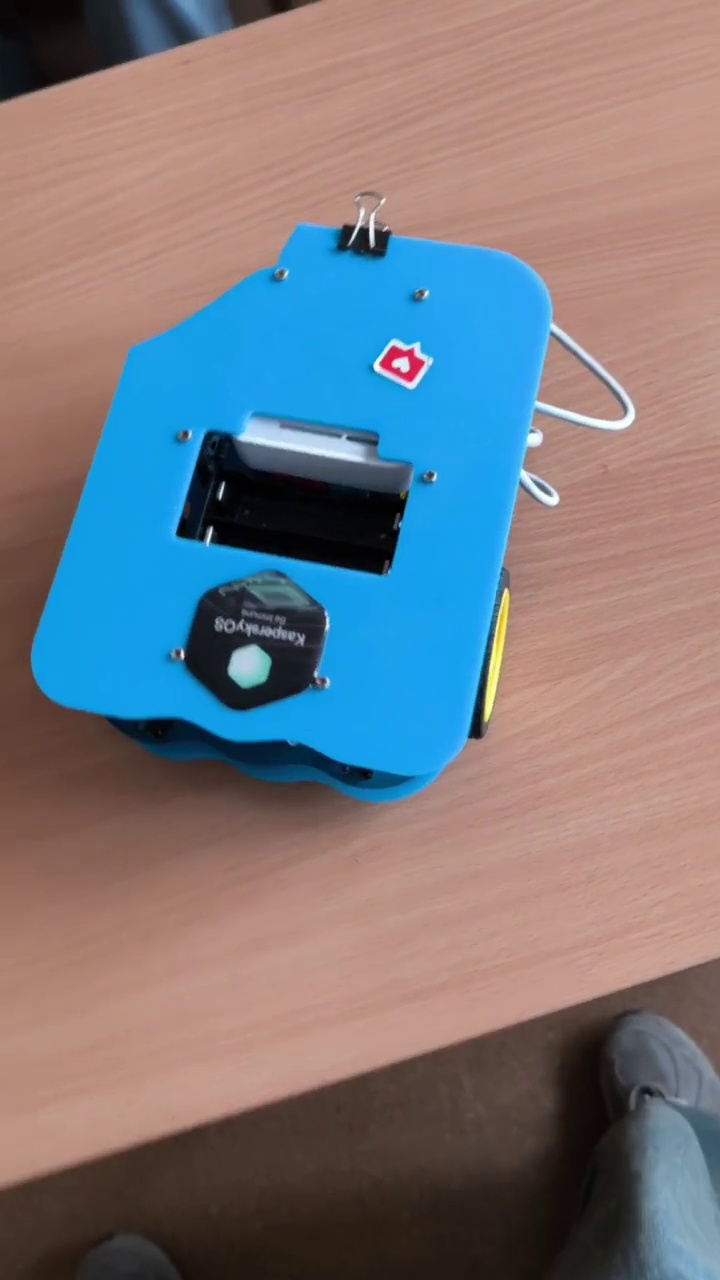robot: (29, 190, 639, 810)
